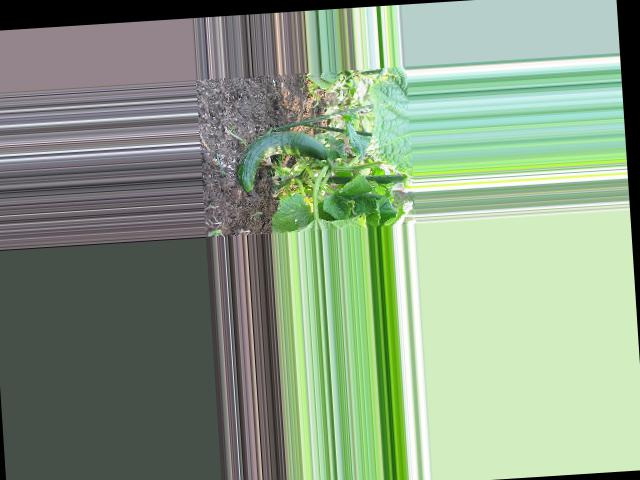cucumber: (235, 127, 331, 193)
